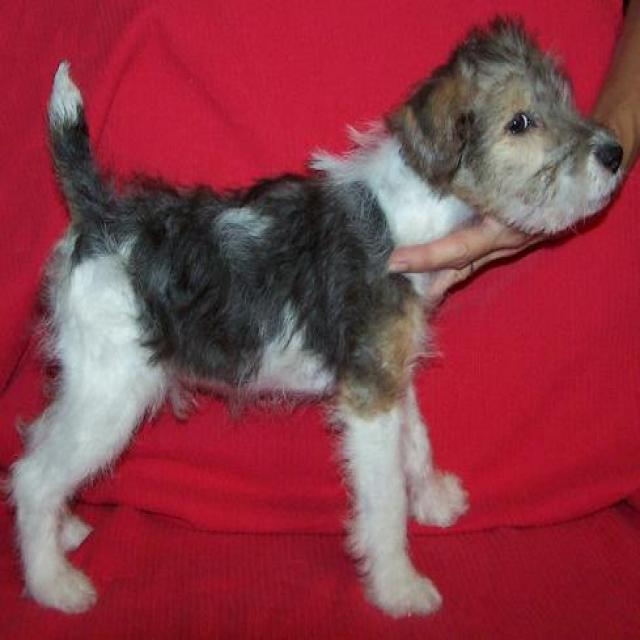good: (0, 37, 632, 624)
